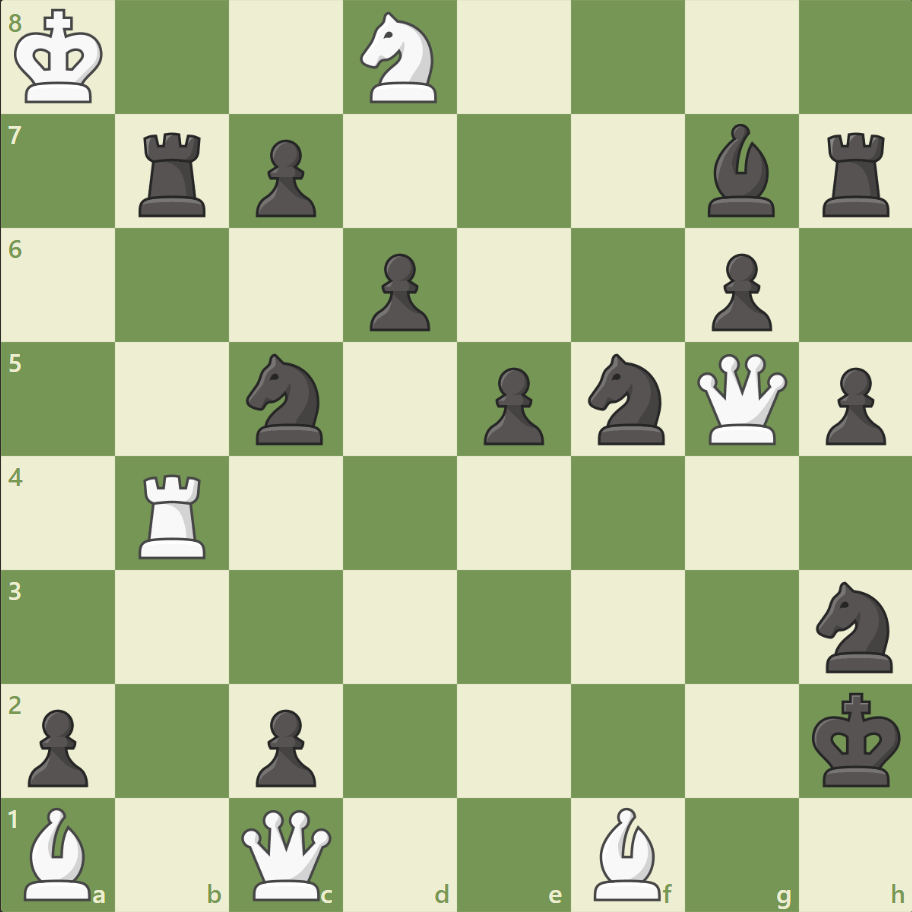B: (17, 801, 101, 904), (585, 801, 669, 904)
K: (11, 4, 111, 112)
N: (351, 7, 449, 110)
Q: (691, 349, 790, 449), (237, 804, 336, 903)
R: (133, 466, 215, 563)
b: (698, 120, 782, 222)
k: (806, 685, 906, 793)
n: (238, 348, 335, 450), (579, 348, 676, 450), (806, 575, 903, 677)
p: (247, 132, 322, 223), (701, 246, 776, 337), (474, 359, 549, 450), (20, 700, 95, 791), (247, 700, 322, 791), (361, 246, 435, 337), (815, 359, 889, 450)
r: (814, 125, 897, 222), (133, 125, 215, 222)
